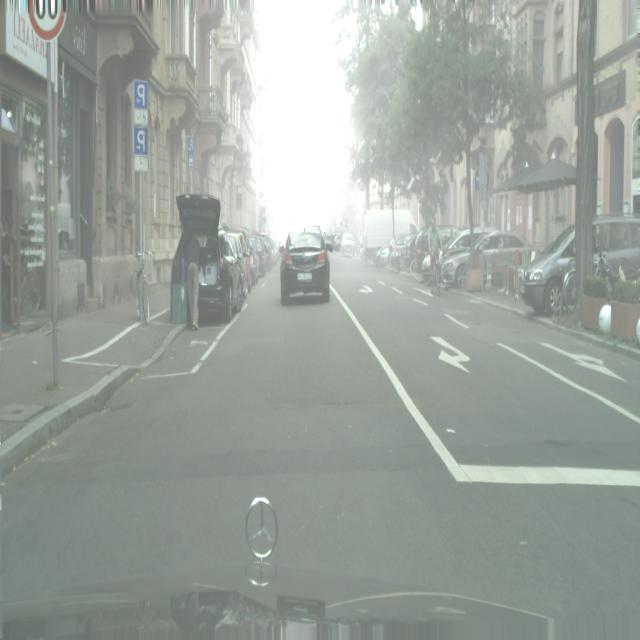bus: (428, 216, 443, 294)
car: (361, 208, 418, 265)
person: (519, 214, 639, 316), (280, 224, 331, 304), (440, 228, 498, 288), (480, 231, 533, 288), (213, 233, 244, 315), (412, 223, 455, 282), (227, 228, 252, 291), (388, 231, 418, 273), (410, 229, 430, 277), (252, 235, 269, 278), (262, 235, 275, 268), (340, 231, 355, 258)
truck: (134, 249, 154, 326), (429, 249, 443, 296)
